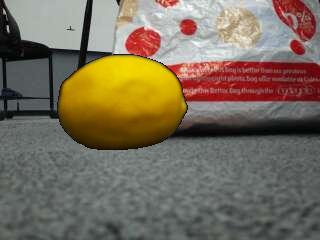lemon: (61, 55, 189, 148)
